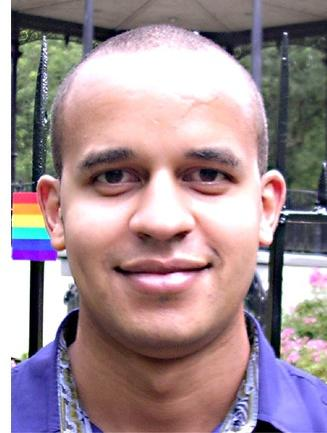No Mask: (16, 33, 297, 374)
